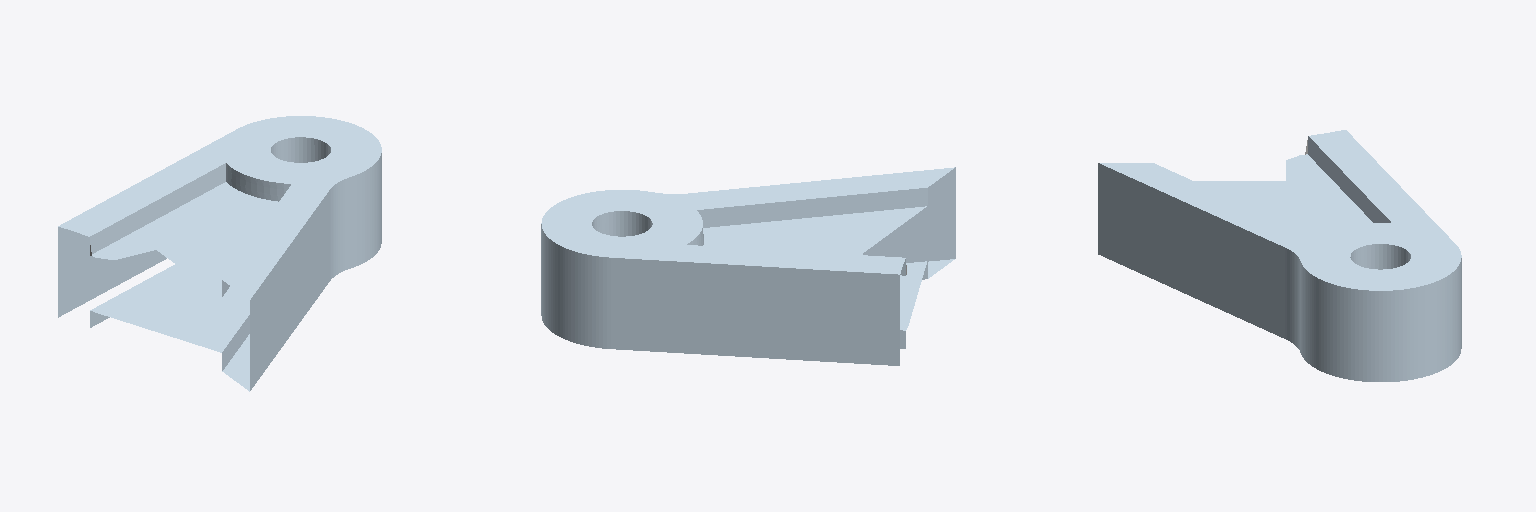
File: gripper_right_outer.obj
3 renders of one model, left to right at view 1: azimuth 30°, elevation 25°; view 2: azimuth 150°, elevation 25°; view 3: azimuth 270°, elevation 25°, orthographic.
Parts seen in each view (by area): view 1: Mesh1 Gripper_right_outer1 Model; view 2: Mesh1 Gripper_right_outer1 Model; view 3: Mesh1 Gripper_right_outer1 Model.
Boxes of the visible parts, <box> form: Mesh1 Gripper_right_outer1 Model: <box>58,116,381,391</box>; Mesh1 Gripper_right_outer1 Model: <box>541,167,955,365</box>; Mesh1 Gripper_right_outer1 Model: <box>1098,130,1461,381</box>.
Bounding box in the file's own units: 0.0192 × 0.0051 × 0.0183.